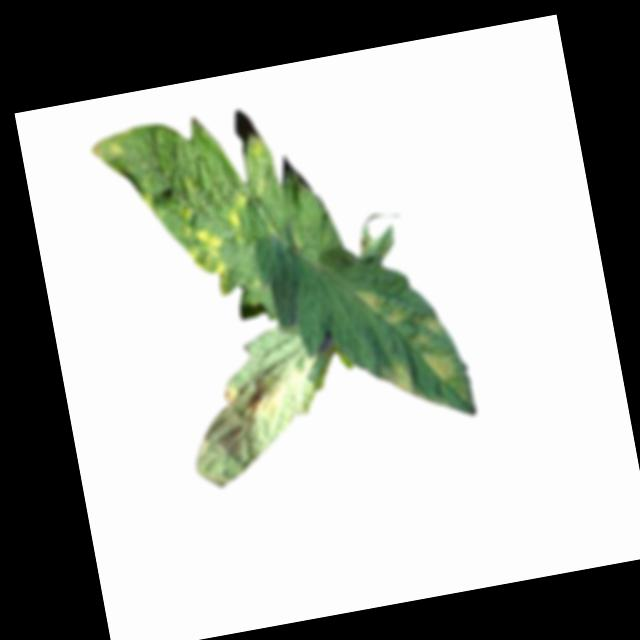Leaf_Mold: (172, 221, 230, 299), (222, 375, 294, 431), (349, 281, 408, 331), (415, 344, 464, 392), (374, 358, 418, 406), (88, 128, 139, 165), (223, 188, 254, 234), (411, 310, 445, 343)
